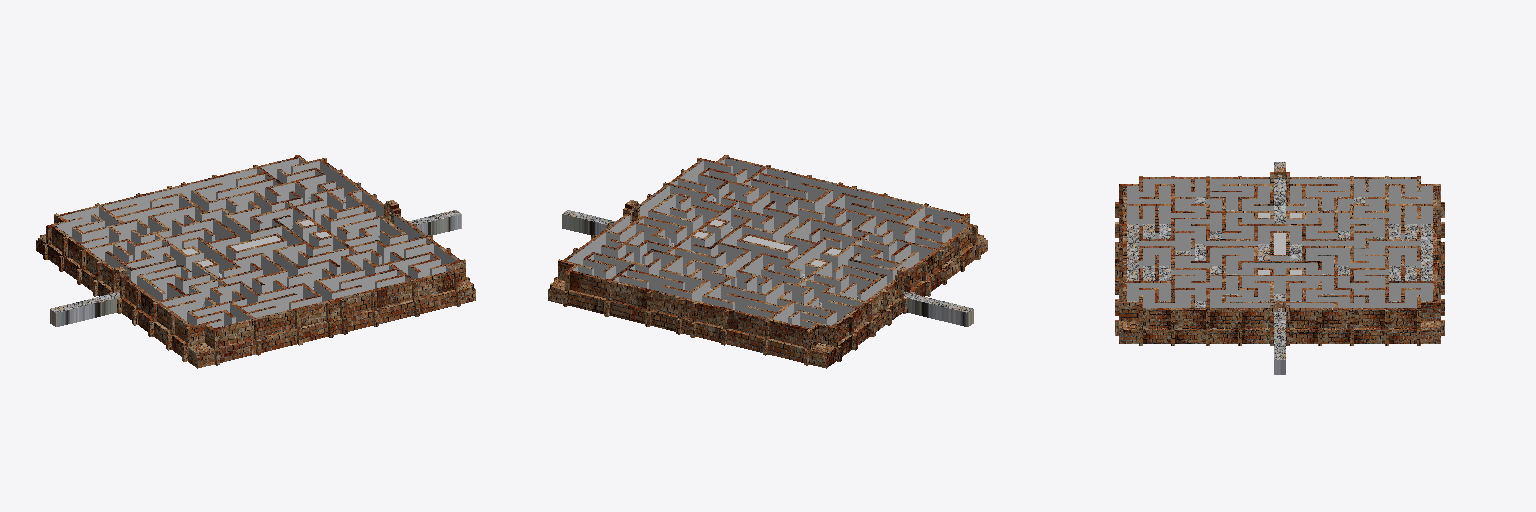
The picture shows the model from 3 angles: view 1: azimuth 30°, elevation 25°; view 2: azimuth 150°, elevation 25°; view 3: azimuth 270°, elevation 25°; orthographic projection.
Parts seen in each view (by area): view 1: maze2; view 2: maze2; view 3: maze2.
Boxes of the visible parts, x1,y1,x2,y2 form: maze2: [36, 155, 475, 368]; maze2: [548, 155, 987, 368]; maze2: [1115, 162, 1444, 374].
Size of the model in its own units: 118 by 11 by 83.
4 materials, 2 textured.